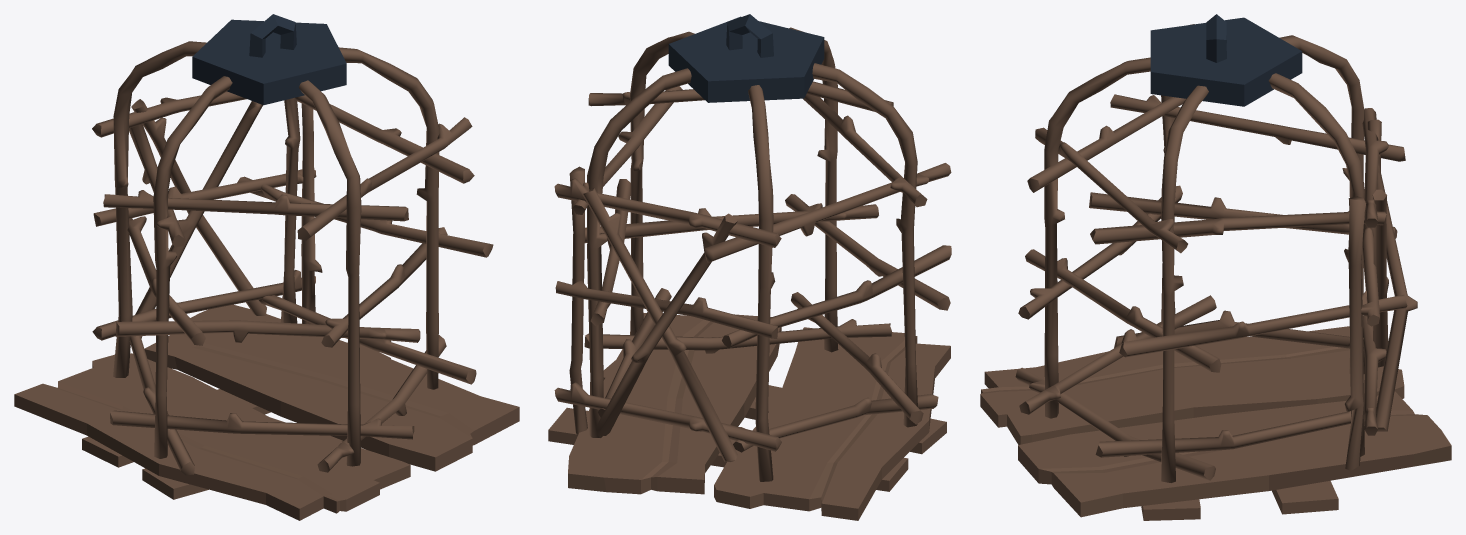
The model's file is SM_Hanging_Cage.fbx.
The picture shows the model from 3 angles, left to right: view 1: azimuth 30°, elevation 25°; view 2: azimuth 150°, elevation 25°; view 3: azimuth 270°, elevation 25°; orthographic projection. The views are drawn at different scales.
Visible parts, largest first — view 1: Cube.004; view 2: Cube.004; view 3: Cube.004.
Boxes of the visible parts, left/top/right/bottom form: Cube.004: left=14, top=14, right=519, bottom=520; Cube.004: left=548, top=14, right=951, bottom=520; Cube.004: left=980, top=14, right=1451, bottom=520.
Bounding box in the file's own units: 169 × 185 × 184.
